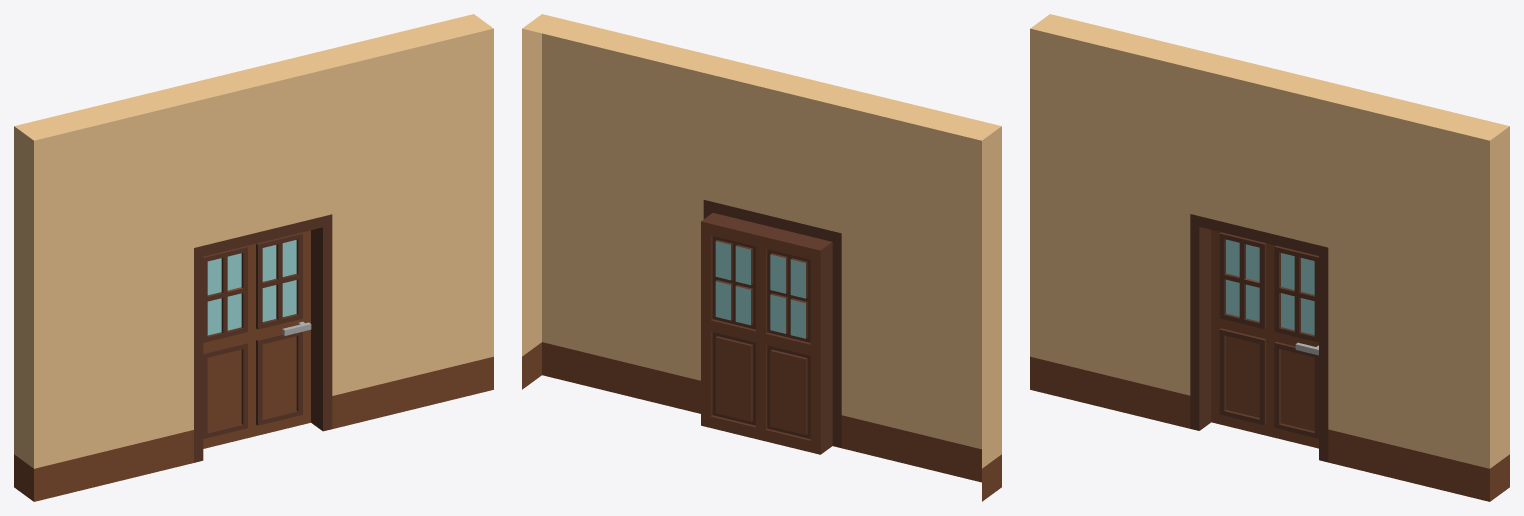
The model's file is door.fbx.
The picture shows the model from 3 angles, left to right: view 1: azimuth 30°, elevation 25°; view 2: azimuth 150°, elevation 25°; view 3: azimuth 330°, elevation 25°; orthographic projection.
Parts seen in each view (by area): view 1: door_library; view 2: door_library; view 3: door_library.
Part boxes in pixels (bbox=[...]): door_library: bbox=[14, 14, 493, 501]; door_library: bbox=[522, 14, 1001, 501]; door_library: bbox=[1030, 14, 1509, 501].
Bounding box in the file's own units: 816 × 613 × 61.26.
